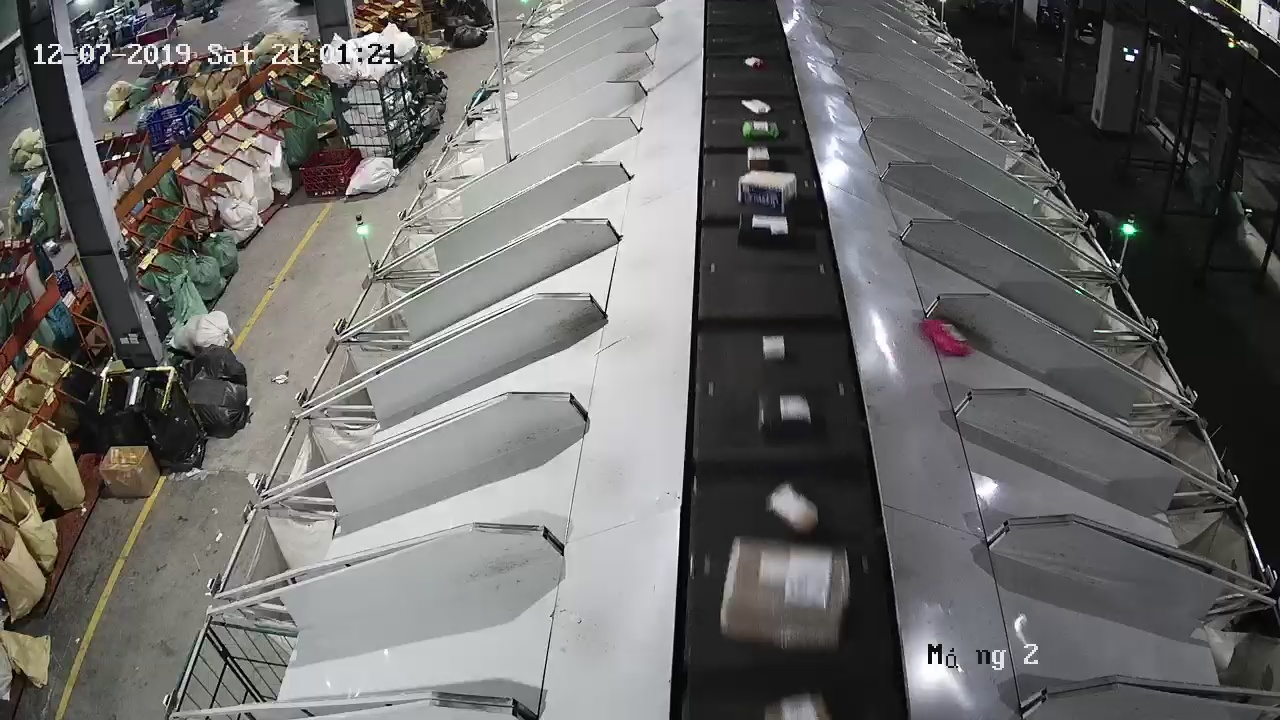parcel: (921, 318, 974, 357)
